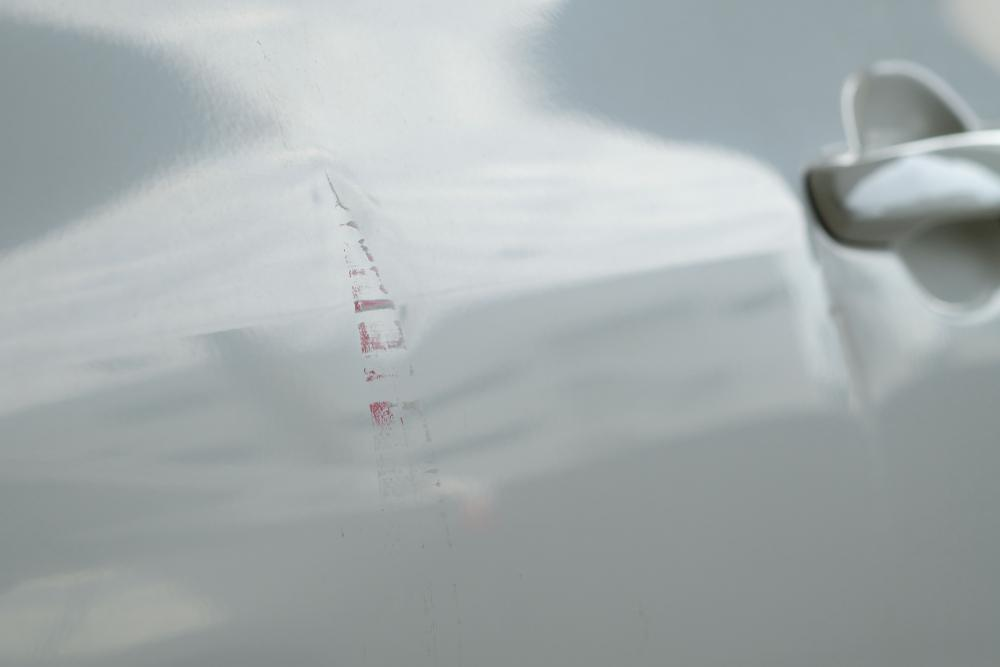dent: (123, 330, 383, 521), (306, 175, 420, 364), (790, 231, 904, 408)
scratch: (364, 356, 435, 446)
